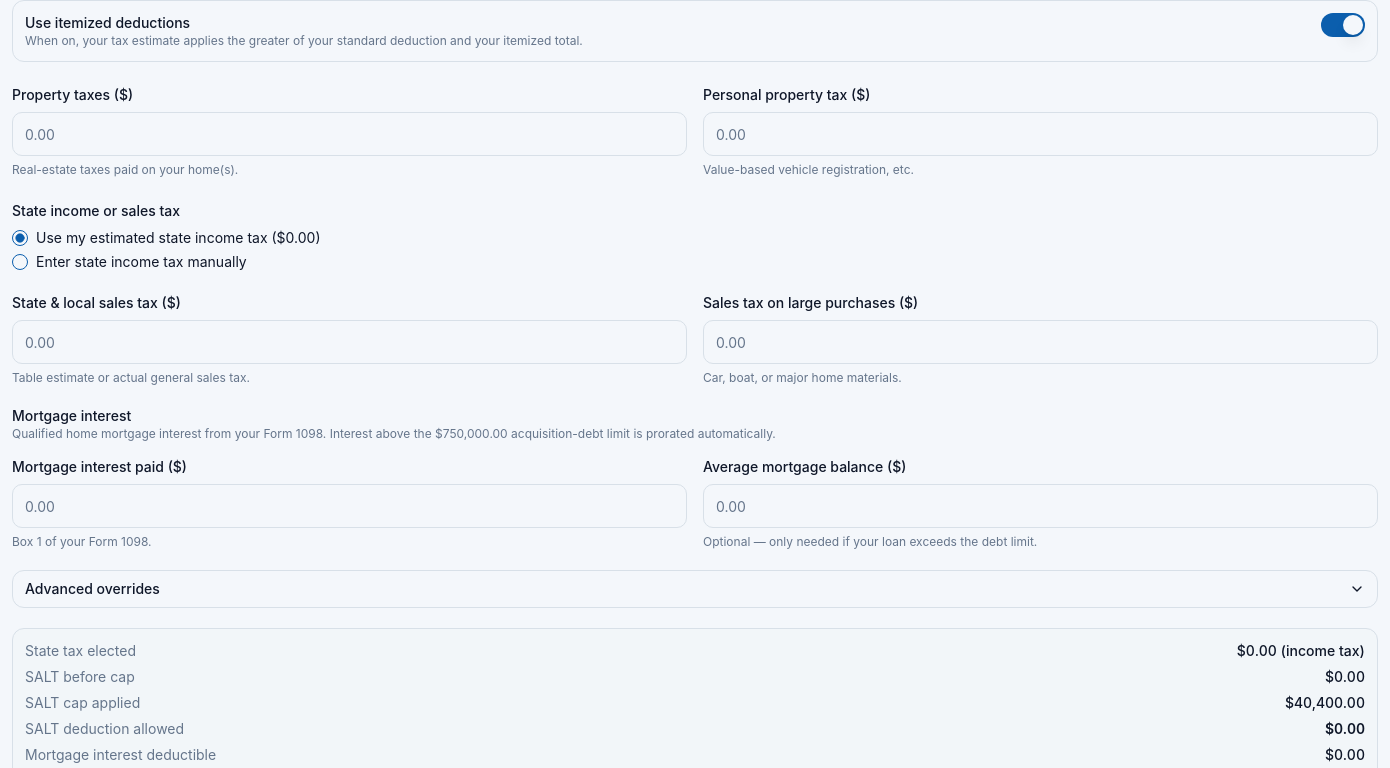
Scenario: Itemized Deductions card validation + accessibility › keeps the mortgage test IDs and exposes accessible switch names
expect the number field with test id "itemized-mortgageInterest" is shown: met, box left=12, top=484, right=687, bottom=528
expect the number field with test id "itemized-mortgageBalance" is shown: met, box left=703, top=484, right=1378, bottom=528
The sales-tax election lives in the collapsed Advanced overrides block.
Click the button "Advanced overrides".
click(92, 588)  # box left=12, top=570, right=1378, bottom=608
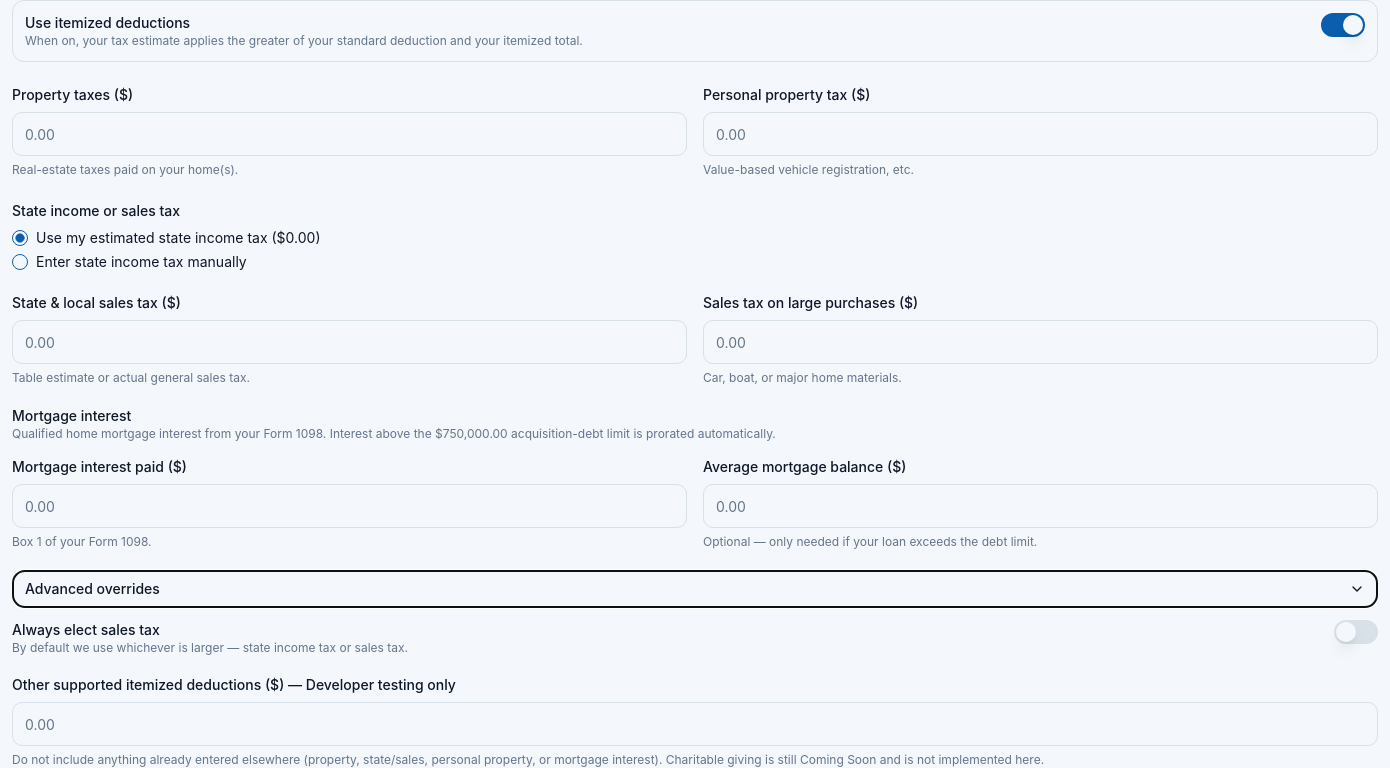
expect the switch named "Always elect sales tax" is shown: met, box left=1334, top=620, right=1378, bottom=644
